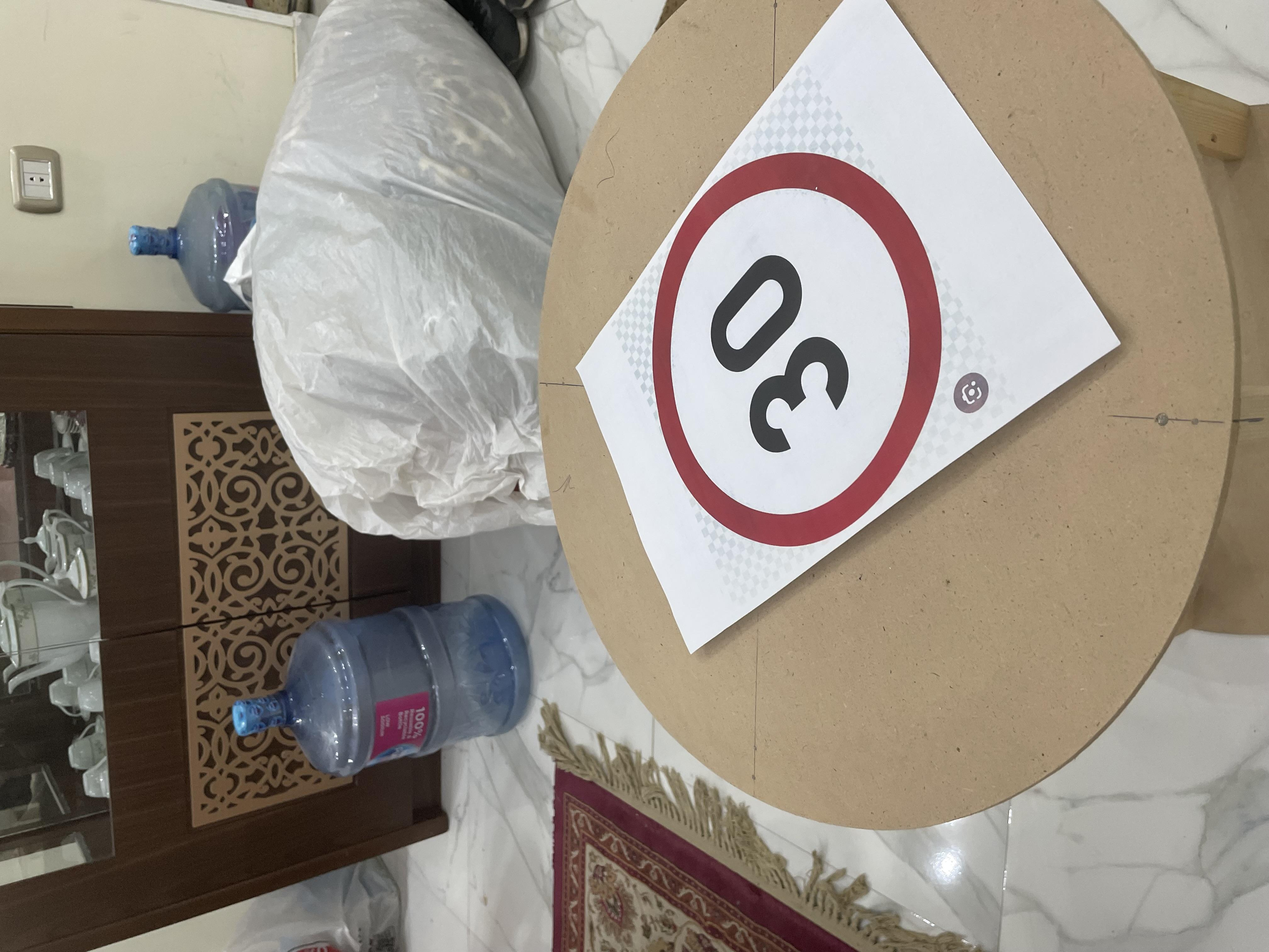30-speed: (530, 482, 1107, 706)
